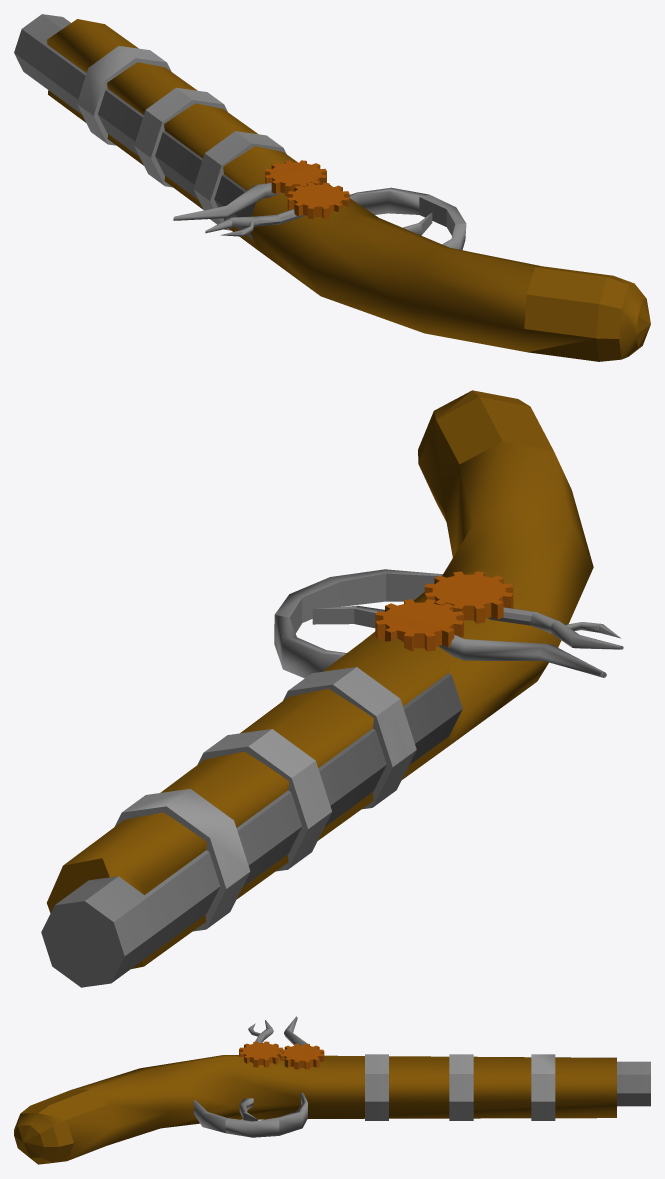
Rendered from Pistol.glb.
The picture shows the model from 3 angles, top to bottom: view 1: azimuth 30°, elevation 25°; view 2: azimuth 150°, elevation 25°; view 3: azimuth 270°, elevation 25°; orthographic projection. The views are drawn at different scales.
Visible parts, largest first — view 1: Pistol; view 2: Pistol; view 3: Pistol.
Part boxes in pixels (x1,y1,x2,y2): Pistol: [14, 14, 650, 361]; Pistol: [41, 390, 623, 987]; Pistol: [14, 1016, 650, 1164].
Size of what is drawn, in the model's own units: 0.2445 by 0.0734 by 0.6327.
1 material, 1 textured.
